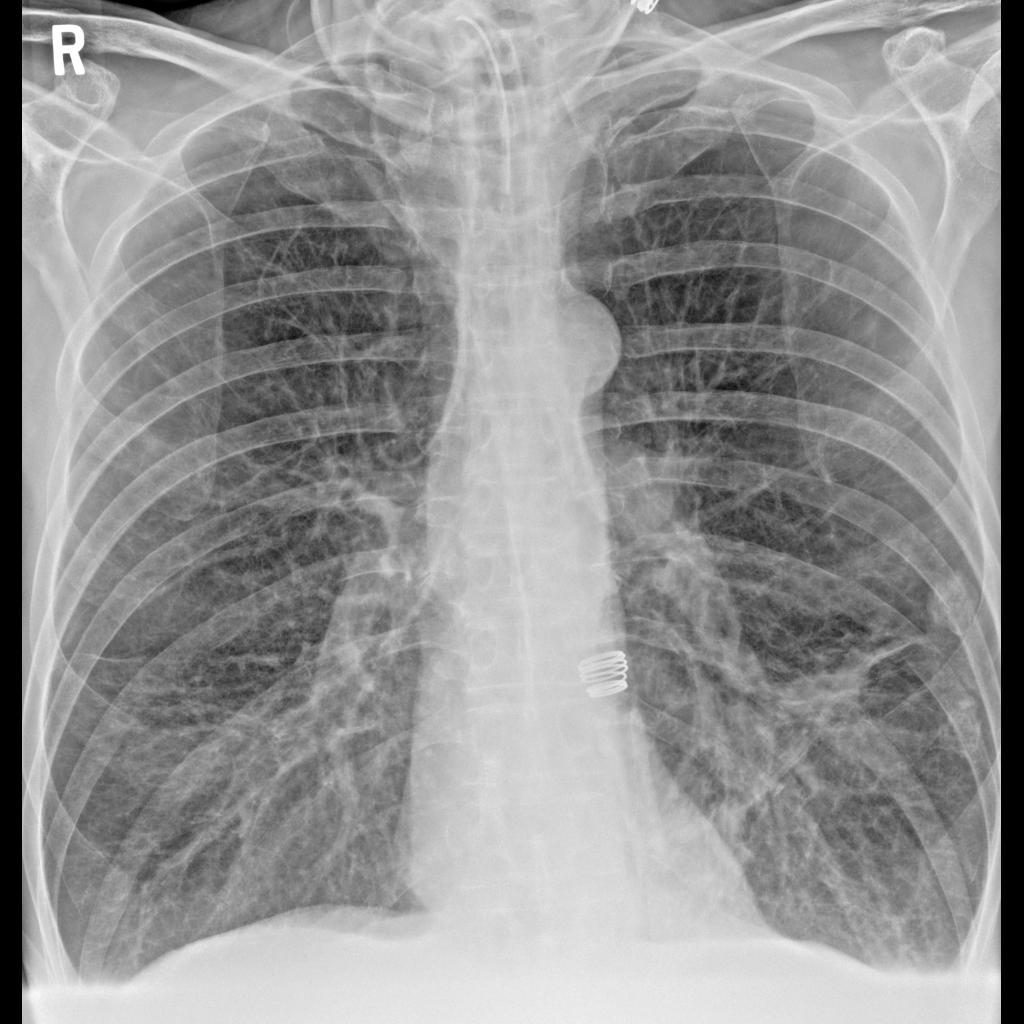Nodule: (917, 551, 987, 651)
